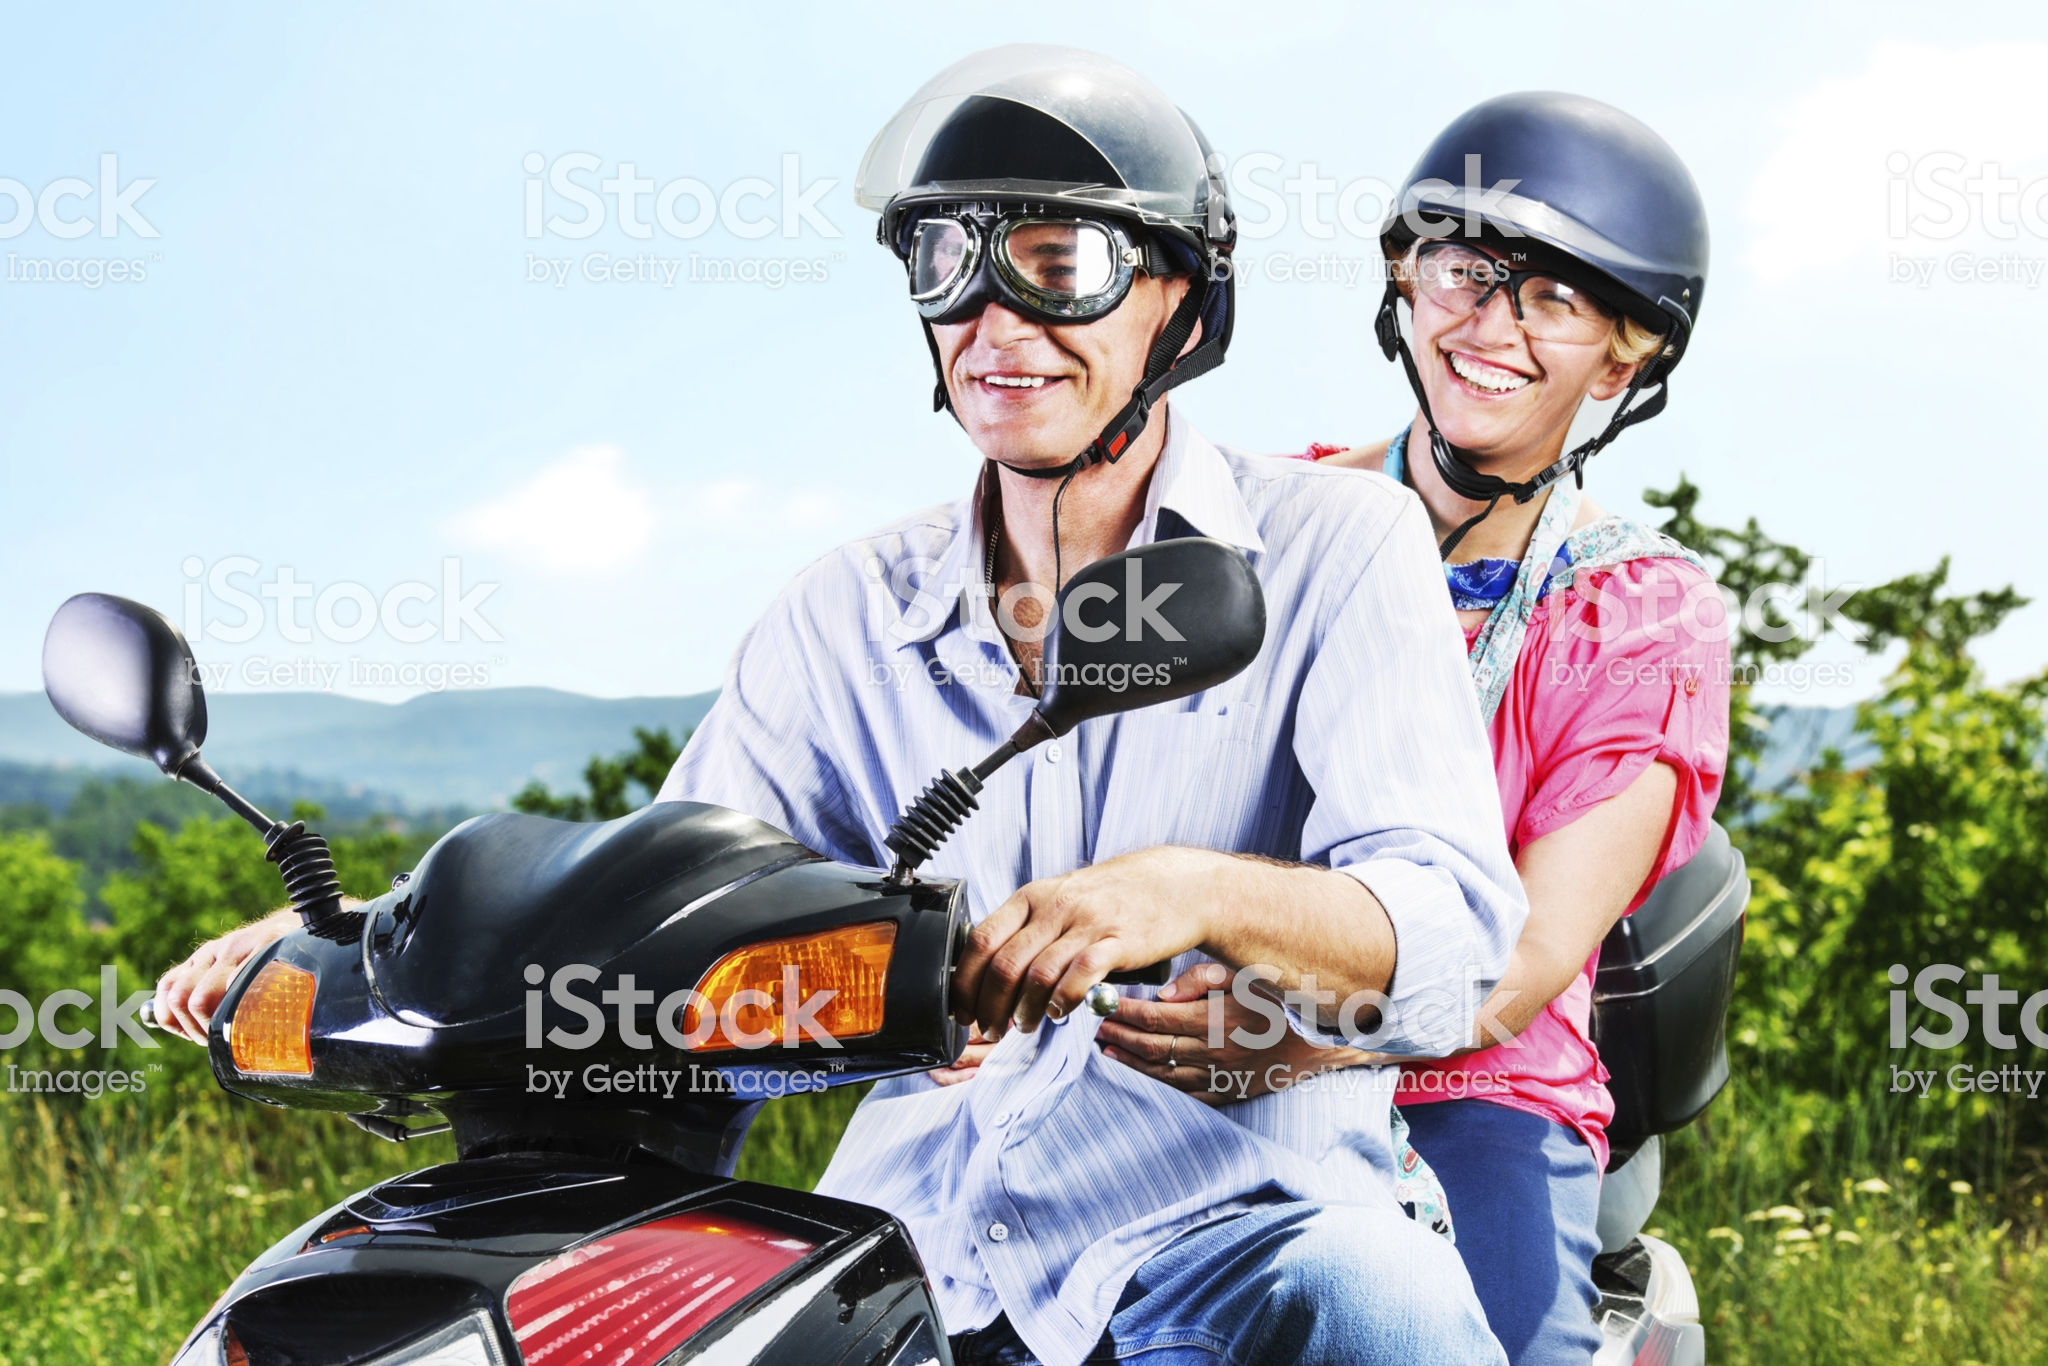helmet: (872, 37, 1278, 313), (1381, 91, 1743, 326)
